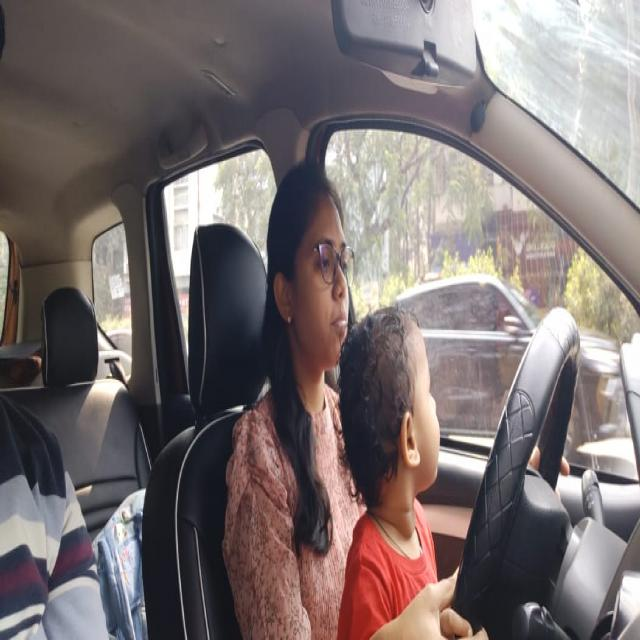child: (334, 300, 449, 516)
person: (261, 157, 350, 351)
